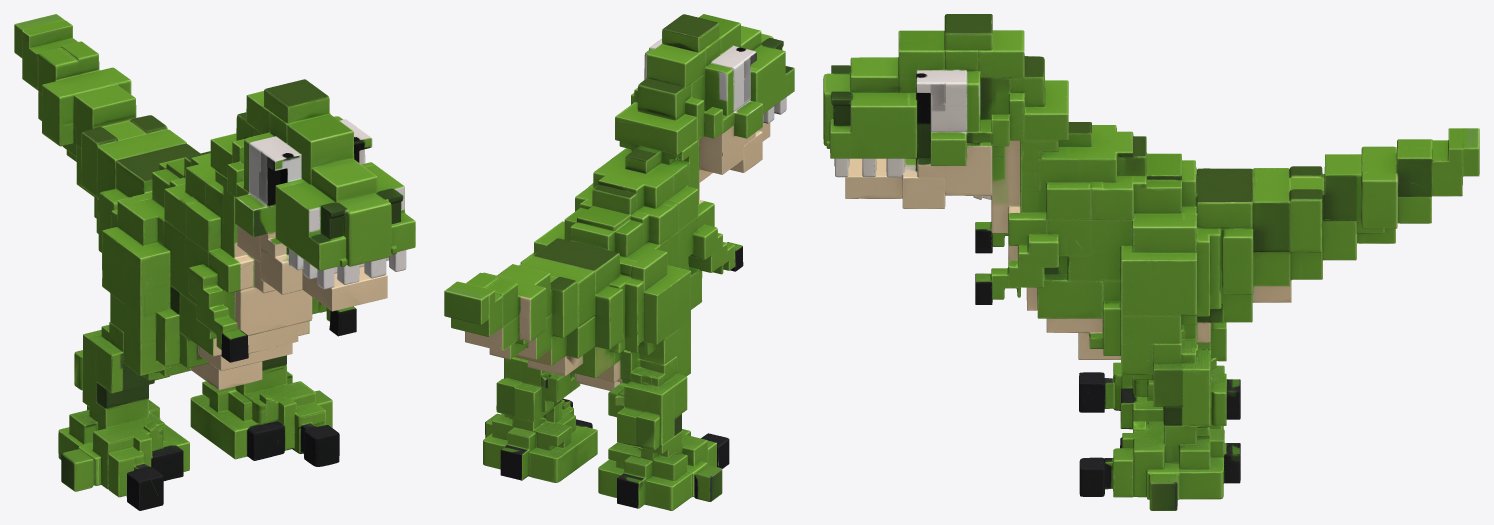
Rendered from Dinosaur.fbx.
3 renders of one model, left to right at view 1: azimuth 30°, elevation 25°; view 2: azimuth 150°, elevation 25°; view 3: azimuth 270°, elevation 25°, orthographic. The views are drawn at different scales.
Parts seen in each view (by area): view 1: Mesh_0; view 2: Mesh_0; view 3: Mesh_0.
Boxes of the visible parts, left/top/right/bottom form: Mesh_0: left=14, top=14, right=415, bottom=510; Mesh_0: left=444, top=14, right=794, bottom=510; Mesh_0: left=823, top=14, right=1479, bottom=510.
Bounding box in the file's own units: 84.66 × 136 × 190.
Materials: 1 (1 with a texture image).
